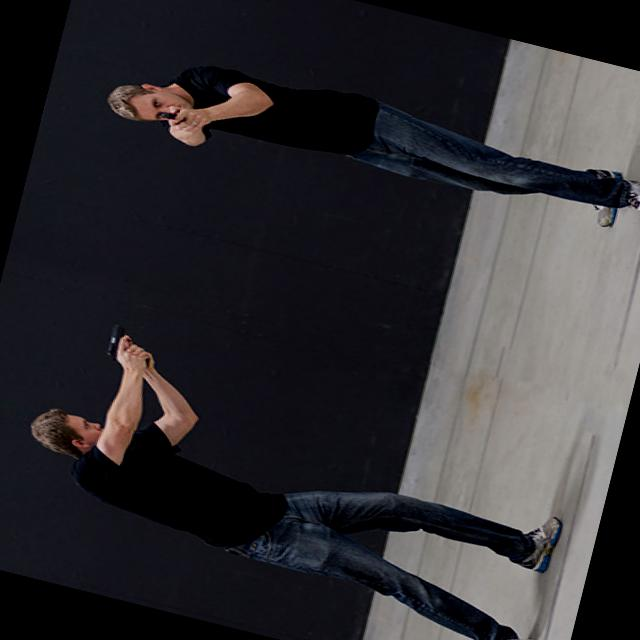handgun: (96, 316, 154, 378), (148, 106, 200, 136)
